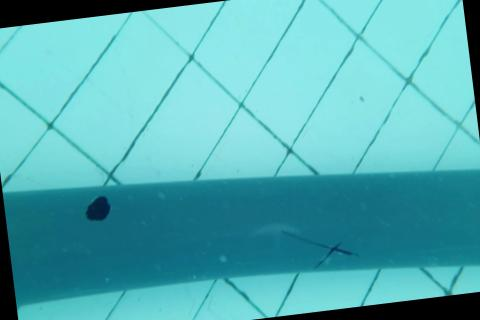kebocoran: (82, 191, 113, 224)
keretakan: (276, 219, 361, 272)
